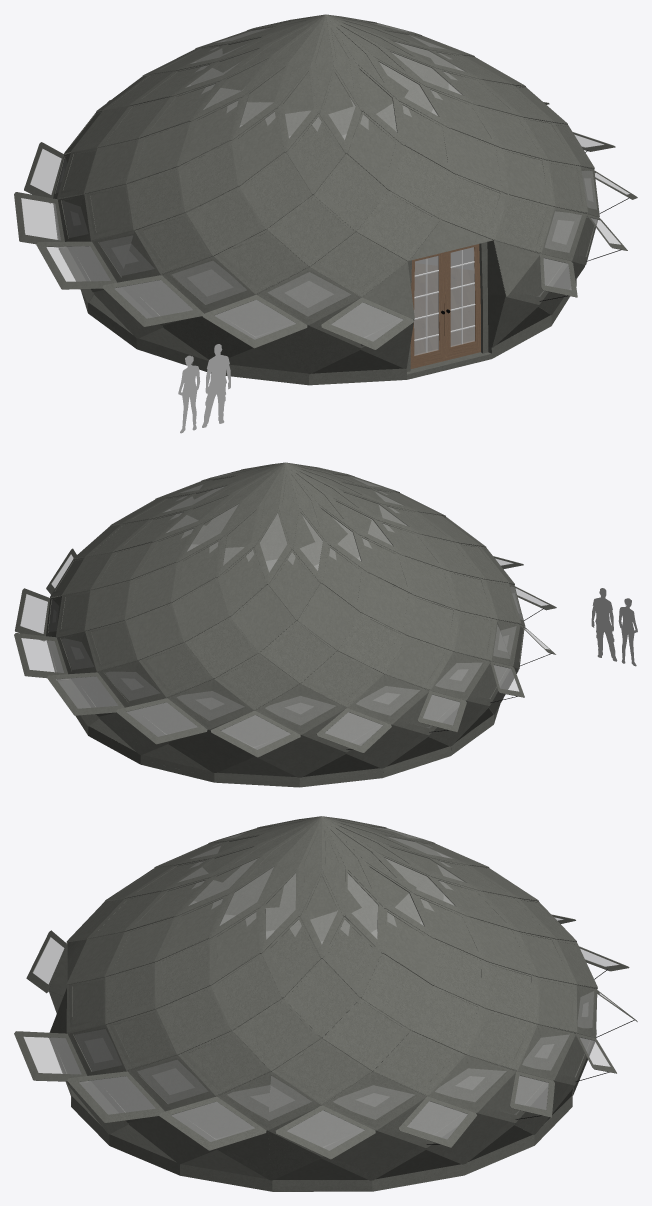
Rendered from zomes-700-draco.glb.
3 renders of one model, top to bottom at view 1: azimuth 30°, elevation 25°; view 2: azimuth 150°, elevation 25°; view 3: azimuth 270°, elevation 25°, orthographic. The views are drawn at different scales.
Visible parts, largest first — view 1: maindoor, entry-center-C-7, entry-center-C-6, floor, entry-center-C-4, foundation, window-glass-C-3_open, window-glass-C-2_open, panel-F-2, window-glass-D-1, panel-F-1, panel-E-1 (+91 smaller); view 2: maindoor, entry-center-C-7, entry-center-C-6, entry-center-C-8, entry-center-C-5, window-glass-C-8_open, panel-F-7, window-glass-C-7_open, foundation, window-glass-C-9_open, panel-F-8, panel-E-7 (+93 smaller); view 3: maindoor, entry-center-C-12, entry-center-C-11, window-glass-C-13_open, window-glass-C-14_open, panel-F-12, foundation, panel-F-13, window-glass-C-12_open, panel-F-11, panel-E-12, window-glass-D-12 (+106 smaller).
Part boxes in pixels (left/top/right/bottom): maindoor: left=59, top=220, right=585, bottom=379; entry-center-C-7: left=410, top=244, right=480, bottom=368; entry-center-C-6: left=55, top=166, right=487, bottom=370; floor: left=414, top=263, right=473, bottom=353; entry-center-C-4: left=60, top=194, right=505, bottom=379; foundation: left=81, top=281, right=576, bottom=385; window-glass-C-3_open: left=102, top=275, right=204, bottom=326; window-glass-C-2_open: left=202, top=295, right=307, bottom=348; panel-F-2: left=267, top=195, right=355, bottom=266; window-glass-D-1: left=257, top=267, right=360, bottom=324; panel-F-1: left=356, top=191, right=440, bottom=260; panel-E-1: left=310, top=232, right=407, bottom=296; maindoor: left=79, top=668, right=518, bottom=782; entry-center-C-7: left=169, top=679, right=382, bottom=782; entry-center-C-6: left=255, top=674, right=450, bottom=782; entry-center-C-8: left=88, top=660, right=299, bottom=782; entry-center-C-5: left=346, top=652, right=493, bottom=771; window-glass-C-8_open: left=116, top=698, right=207, bottom=744; panel-F-7: left=259, top=620, right=337, bottom=683; window-glass-C-7_open: left=211, top=711, right=300, bottom=757; foundation: left=75, top=704, right=500, bottom=787; window-glass-C-9_open: left=47, top=672, right=124, bottom=716; panel-F-8: left=185, top=617, right=258, bottom=678; panel-E-7: left=214, top=653, right=299, bottom=709; maindoor: left=48, top=939, right=594, bottom=1186; entry-center-C-12: left=180, top=1071, right=426, bottom=1185; entry-center-C-11: left=272, top=1055, right=516, bottom=1186; window-glass-C-13_open: left=159, top=1096, right=266, bottom=1150; window-glass-C-14_open: left=67, top=1071, right=164, bottom=1122; panel-F-12: left=322, top=998, right=410, bottom=1070; foundation: left=71, top=1096, right=572, bottom=1191; panel-F-13: left=232, top=998, right=321, bottom=1070; window-glass-C-12_open: left=275, top=1105, right=375, bottom=1159; panel-F-11: left=412, top=985, right=487, bottom=1054; panel-E-12: left=272, top=1038, right=371, bottom=1104; window-glass-D-12: left=220, top=1071, right=321, bottom=1129.
Bounding box in the file's own units: 12.38 × 5.76 × 12.09.
Materials: 11 (5 with a texture image).
